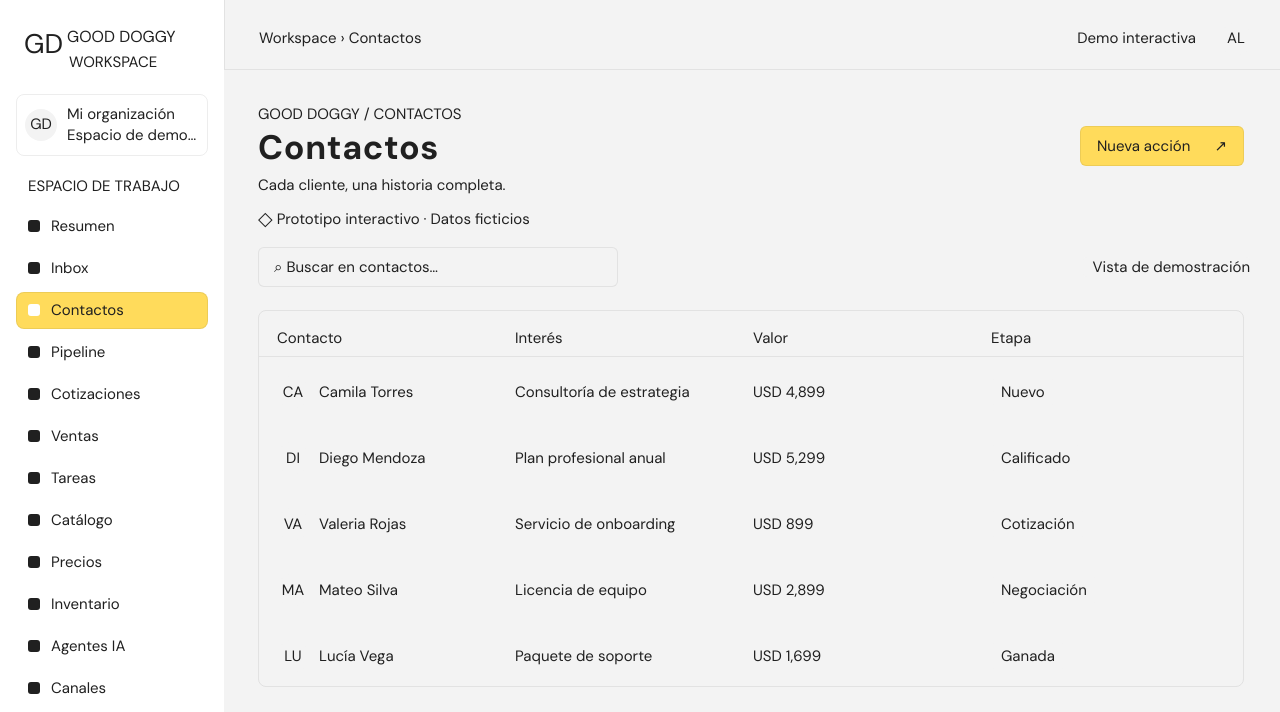
Test: Workspace de la demo › filtra las tablas sin distinguir acentos y muestra el estado vacío
Type "lucia" into the search field labelled "Buscar en contactos". click: (438, 267)
box: [258,247,618,287]
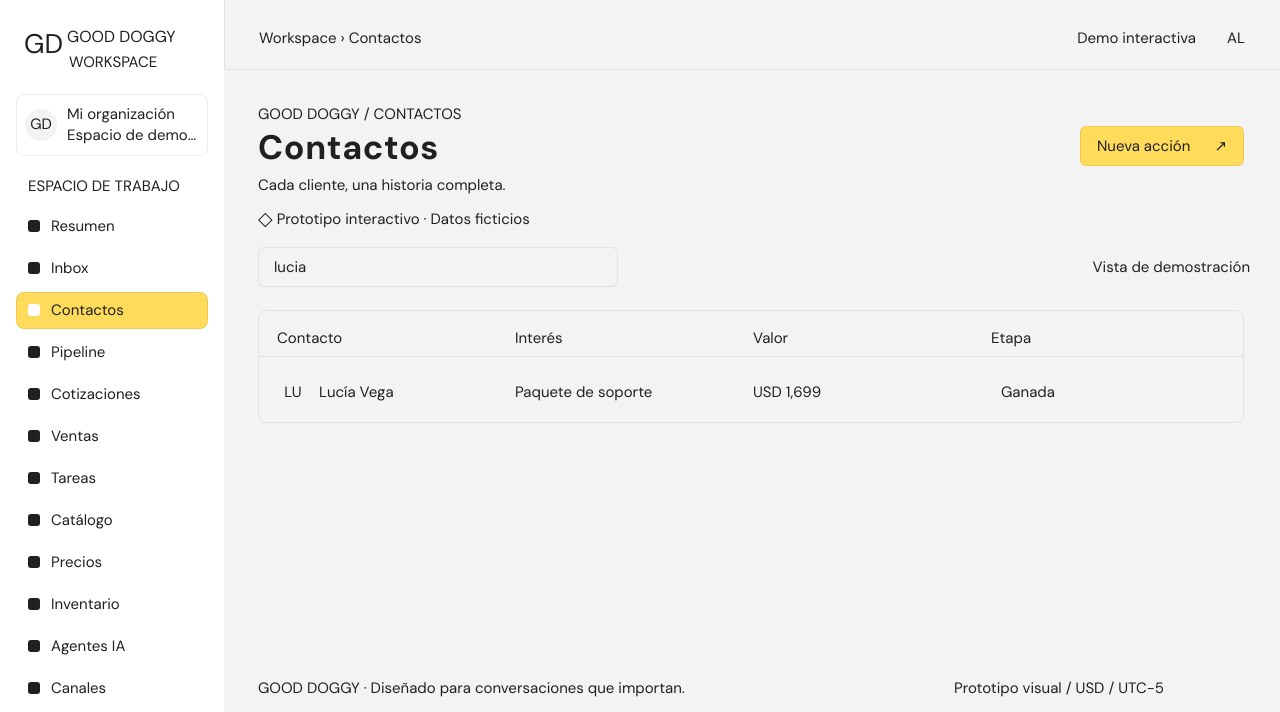
Expected: the row "LU Lucía Vega Paquete de soporte USD 1,699 Ganada" is shown, [277,356,1229,422]
Replace the text in the search field named "Buscar en contactos" with "zzz". click: (438, 267)
box: [258,247,618,287]
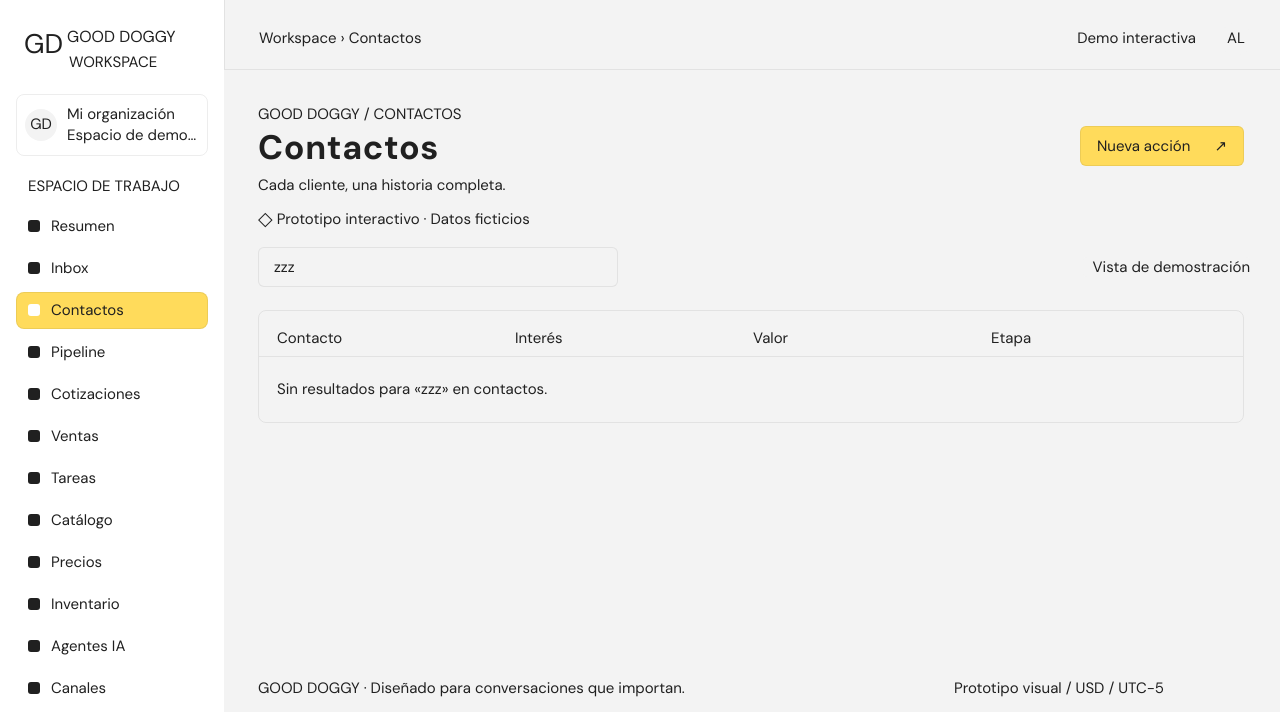
Result: the row "Sin resultados para «zzz» en contactos." is shown at [277,356,1229,422]
